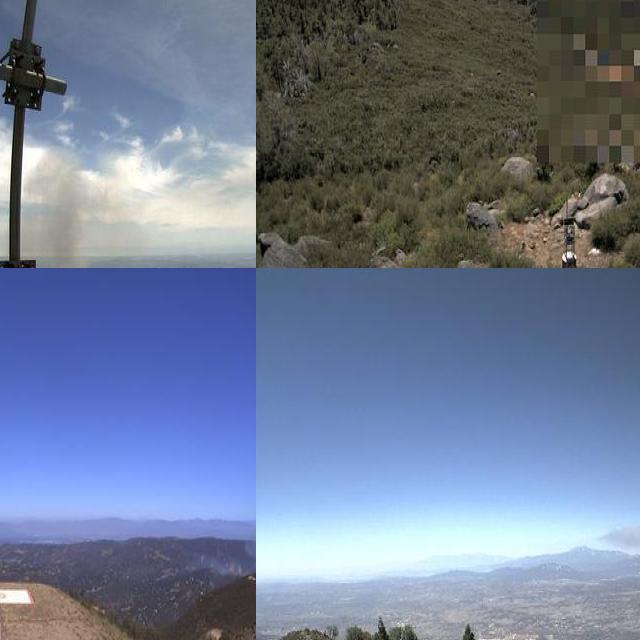smoke: (149, 490, 256, 584), (29, 152, 101, 268), (594, 514, 640, 580)
